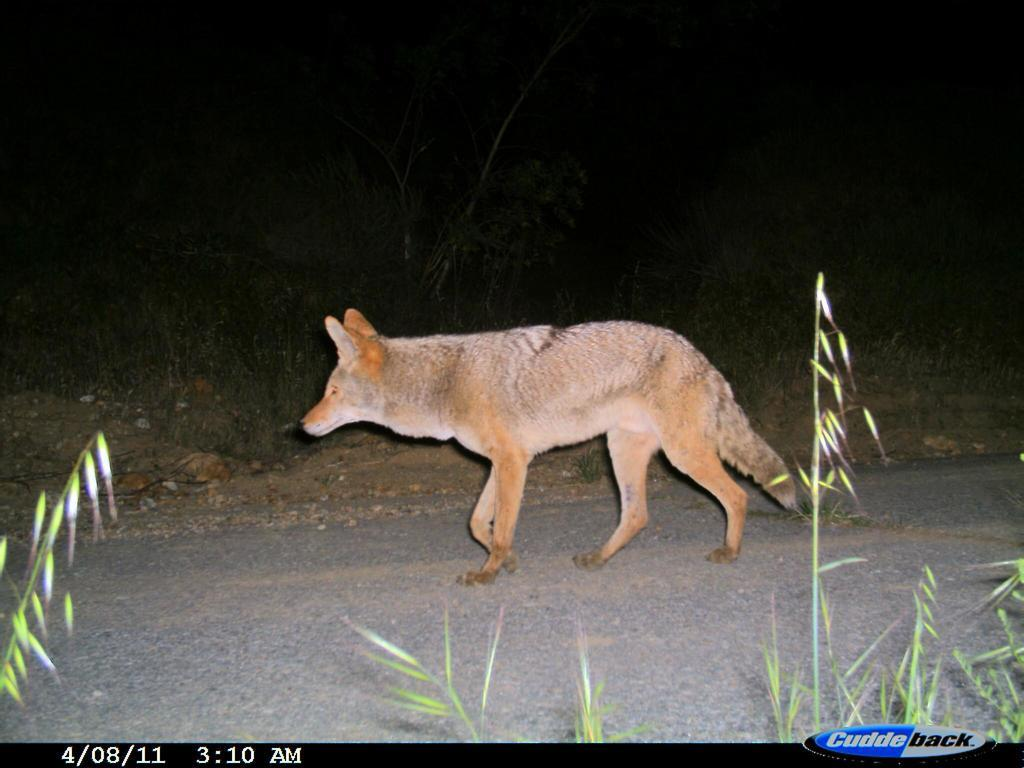coyote: (273, 296, 812, 597)
